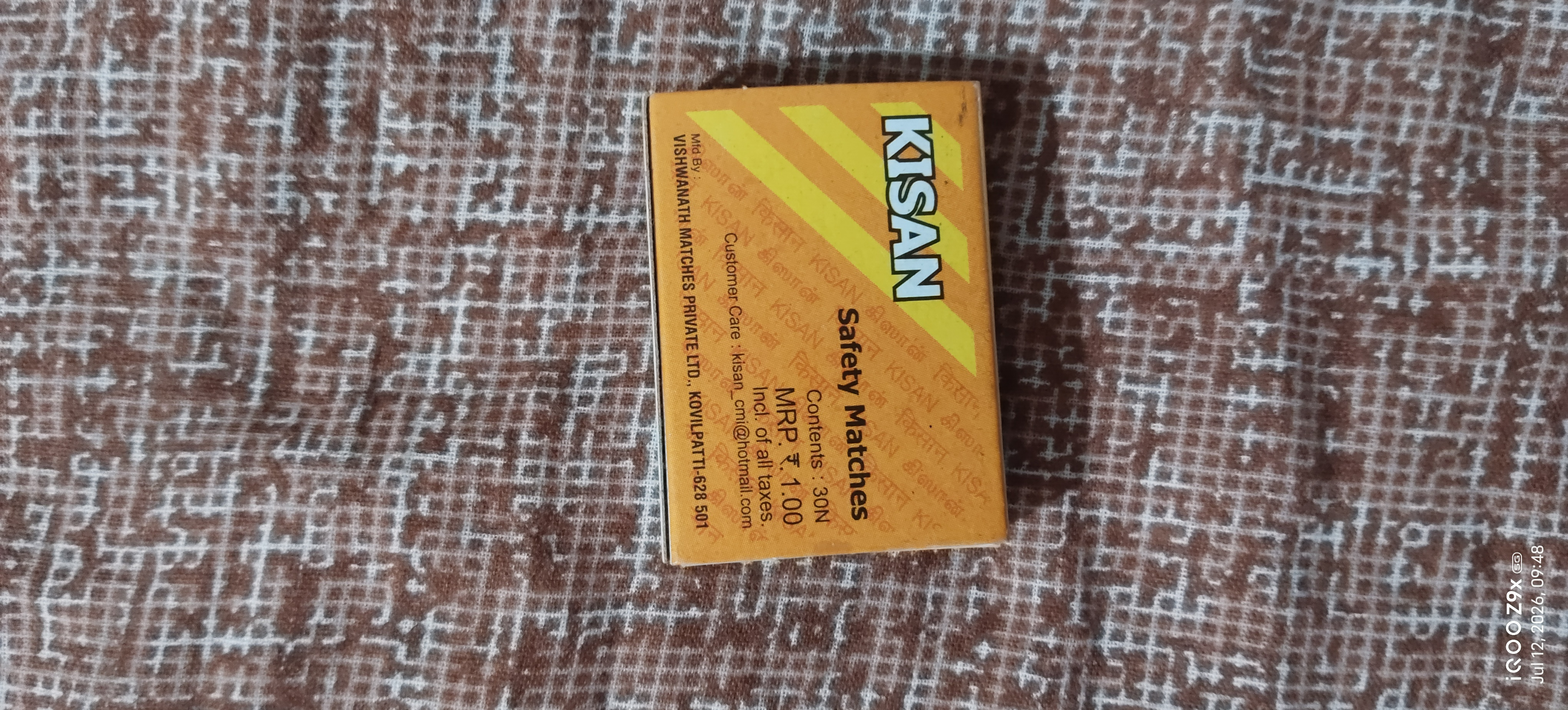matchbox: (632, 71, 1018, 573)
